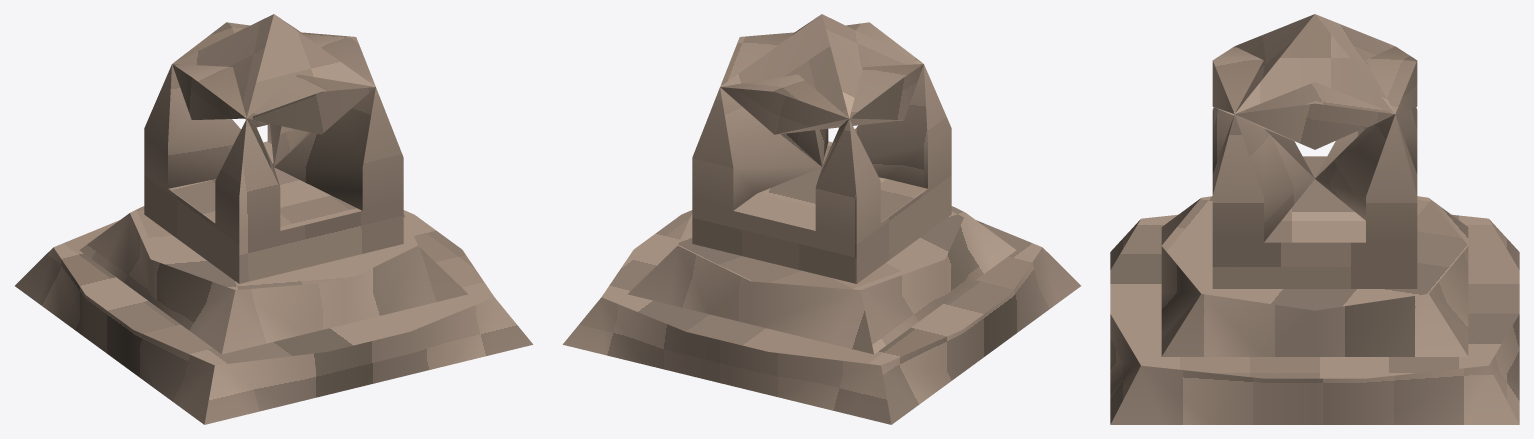
The model's file is bcagelid_corr.obj.
The picture shows the model from 3 angles, left to right: view 1: azimuth 30°, elevation 25°; view 2: azimuth 150°, elevation 25°; view 3: azimuth 270°, elevation 25°; orthographic projection. The views are drawn at different scales.
Visible parts, largest first — view 1: bcagelid; view 2: bcagelid; view 3: bcagelid.
Boxes of the visible parts, <box> form: bcagelid: <box>15,14,532,424</box>; bcagelid: <box>563,14,1080,424</box>; bcagelid: <box>1110,14,1519,424</box>.
Bounding box in the file's own units: 0.4273 × 0.3739 × 0.4273.
